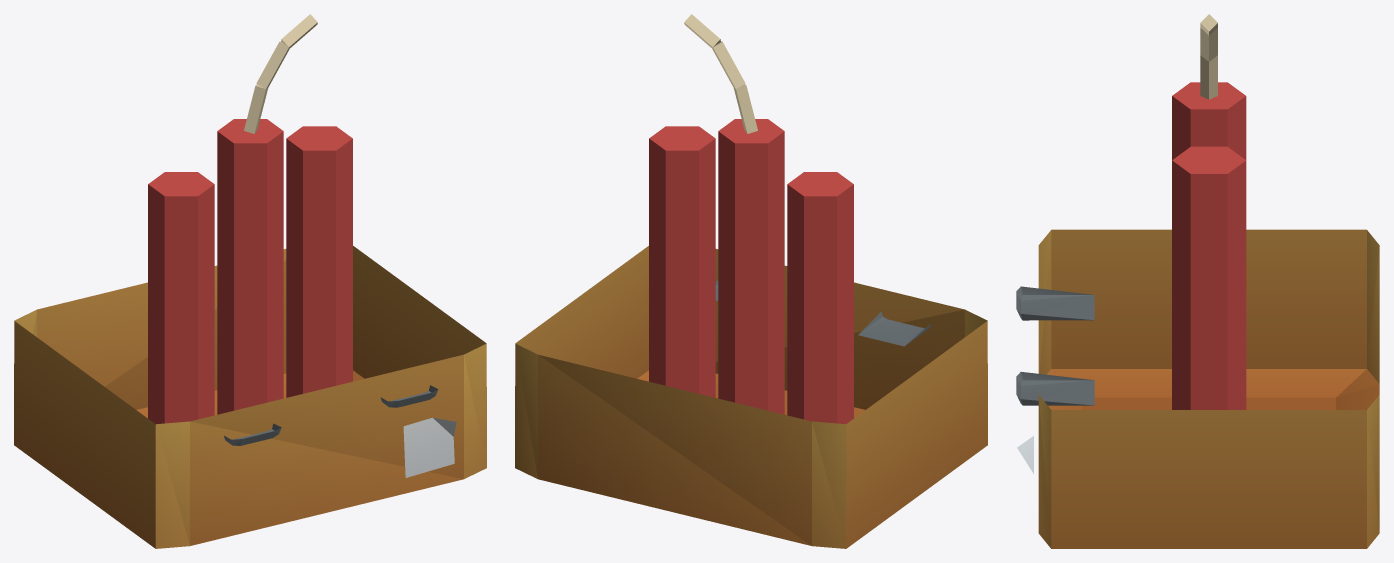
The model's file is dynamite_crate.glb.
The picture shows the model from 3 angles, left to right: view 1: azimuth 30°, elevation 25°; view 2: azimuth 150°, elevation 25°; view 3: azimuth 270°, elevation 25°; orthographic projection. The views are drawn at different scales.
Parts seen in each view (by area): view 1: dynamite_crate; view 2: dynamite_crate; view 3: dynamite_crate.
Boxes of the visible parts, x1,y1,x2,y2 form: dynamite_crate: (14,14,486,548); dynamite_crate: (515,14,987,548); dynamite_crate: (1016,14,1379,548).
Size of the model in its own units: 0.575 by 0.7303 by 0.4901.
3 materials, 1 textured.
